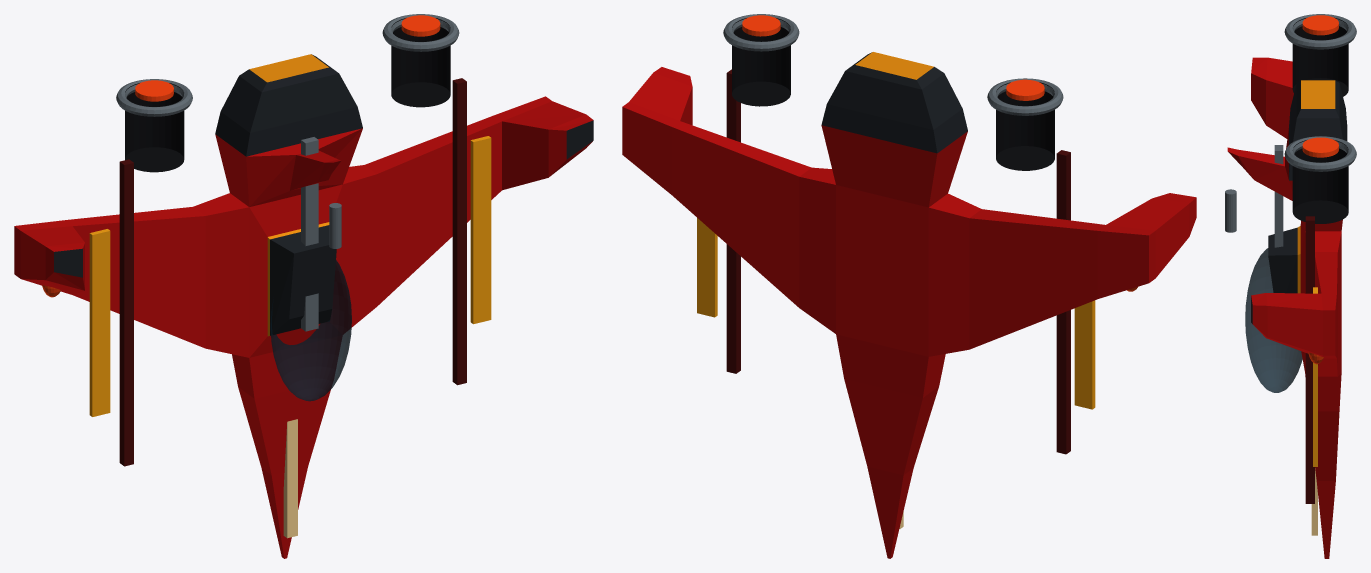
Rendered from nave_cowboyb_detallada.obj.
The picture shows the model from 3 angles, left to right: view 1: azimuth 30°, elevation 25°; view 2: azimuth 150°, elevation 25°; view 3: azimuth 270°, elevation 25°; orthographic projection. The views are drawn at different scales.
Parts seen in each view (by area): view 1: Nave, Cowboy_Ship_Canopy, Cowboy_Ship_WingRail_L, Cowboy_Ship_WingRail_R, Cowboy_Ship_WingPanel_R, Cowboy_Ship_WingPanel_L, Cowboy_Ship_Engine_R, Cowboy_Ship_Engine_L, Cowboy_Ship_Spine, Cowboy_Ship_NoseStripe, Cowboy_Ship_Guard_L, Cowboy_Ship_Guard_R (+2 smaller); view 2: Nave, Cowboy_Ship_Engine_L, Cowboy_Ship_Engine_R, Cowboy_Ship_WingRail_L, Cowboy_Ship_WingRail_R, Cowboy_Ship_WingPanel_L, Cowboy_Ship_WingPanel_R, Cowboy_Ship_Guard_R, Cowboy_Ship_Guard_L, Cowboy_Ship_Core_R, Cowboy_Ship_Core_L; view 3: Nave, Cowboy_Ship_Canopy, Cowboy_Ship_Engine_R, Cowboy_Ship_Engine_L, Cowboy_Ship_WingRail_R, Cowboy_Ship_Guard_R, Cowboy_Ship_Guard_L, Cowboy_Ship_Spine, Cowboy_Ship_Core_R, Cowboy_Ship_Core_L, Cowboy_Ship_WingPanel_R, Cowboy_Ship_DorsalAntenna (+1 smaller).
Boxes of the visible parts, x1=… form: Nave: x1=14, y1=54, x2=593, y2=558; Cowboy_Ship_Canopy: x1=270, y1=260, x2=351, y2=401; Cowboy_Ship_WingRail_L: x1=119, y1=159, x2=133, y2=466; Cowboy_Ship_WingRail_R: x1=452, y1=78, x2=466, y2=385; Cowboy_Ship_WingPanel_R: x1=470, y1=136, x2=491, y2=324; Cowboy_Ship_WingPanel_L: x1=89, y1=229, x2=110, y2=416; Cowboy_Ship_Engine_R: x1=391, y1=18, x2=450, y2=107; Cowboy_Ship_Engine_L: x1=125, y1=83, x2=184, y2=172; Cowboy_Ship_Spine: x1=301, y1=137, x2=318, y2=331; Cowboy_Ship_NoseStripe: x1=283, y1=419, x2=297, y2=538; Cowboy_Ship_Guard_L: x1=116, y1=79, x2=192, y2=116; Cowboy_Ship_Guard_R: x1=382, y1=14, x2=459, y2=51; Nave: x1=622, y1=52, x2=1196, y2=558; Cowboy_Ship_Engine_L: x1=996, y1=82, x2=1054, y2=170; Cowboy_Ship_Engine_R: x1=732, y1=18, x2=790, y2=106; Cowboy_Ship_WingRail_L: x1=1056, y1=150, x2=1070, y2=454; Cowboy_Ship_WingRail_R: x1=726, y1=69, x2=740, y2=373; Cowboy_Ship_WingPanel_L: x1=1074, y1=300, x2=1095, y2=409; Cowboy_Ship_WingPanel_R: x1=697, y1=218, x2=717, y2=317; Cowboy_Ship_Guard_R: x1=723, y1=14, x2=799, y2=51; Cowboy_Ship_Guard_L: x1=987, y1=78, x2=1063, y2=115; Cowboy_Ship_Core_R: x1=742, y1=15, x2=780, y2=36; Cowboy_Ship_Core_L: x1=1006, y1=79, x2=1044, y2=100; Nave: x1=1227, y1=57, x2=1347, y2=558; Cowboy_Ship_Canopy: x1=1245, y1=248, x2=1302, y2=392; Cowboy_Ship_Engine_R: x1=1292, y1=140, x2=1348, y2=223; Cowboy_Ship_Engine_L: x1=1292, y1=17, x2=1348, y2=96; Cowboy_Ship_WingRail_R: x1=1305, y1=216, x2=1314, y2=503; Cowboy_Ship_Guard_R: x1=1284, y1=136, x2=1356, y2=171; Cowboy_Ship_Guard_L: x1=1284, y1=14, x2=1356, y2=49; Cowboy_Ship_Spine: x1=1274, y1=145, x2=1283, y2=247; Cowboy_Ship_Core_R: x1=1302, y1=137, x2=1338, y2=157; Cowboy_Ship_Core_L: x1=1302, y1=15, x2=1338, y2=35; Cowboy_Ship_WingPanel_R: x1=1313, y1=287, x2=1317, y2=466; Cowboy_Ship_DorsalAntenna: x1=1225, y1=189, x2=1236, y2=232.
Size of the model in its own units: 9.02 by 8.03 by 2.02.
